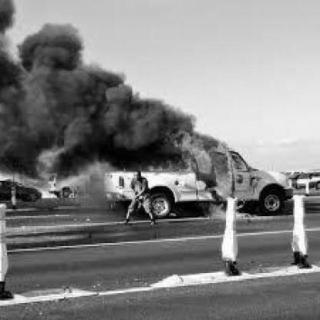Fire: (147, 128, 249, 222)
